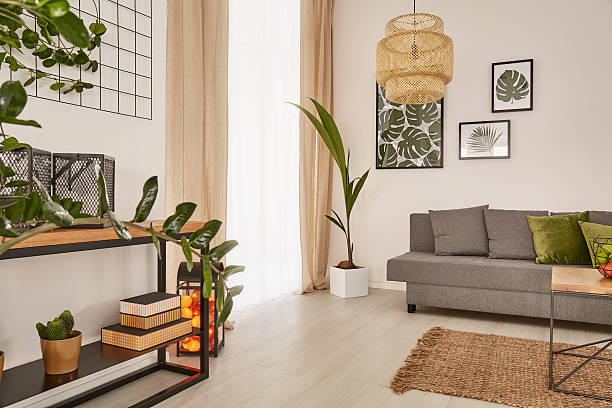large plant: (290, 96, 377, 300)
small plant: (35, 307, 83, 374)
sofa: (384, 204, 612, 328)
table: (0, 219, 212, 408), (544, 261, 612, 402)
wall art: (374, 67, 444, 170), (490, 57, 535, 114), (456, 117, 512, 161)
